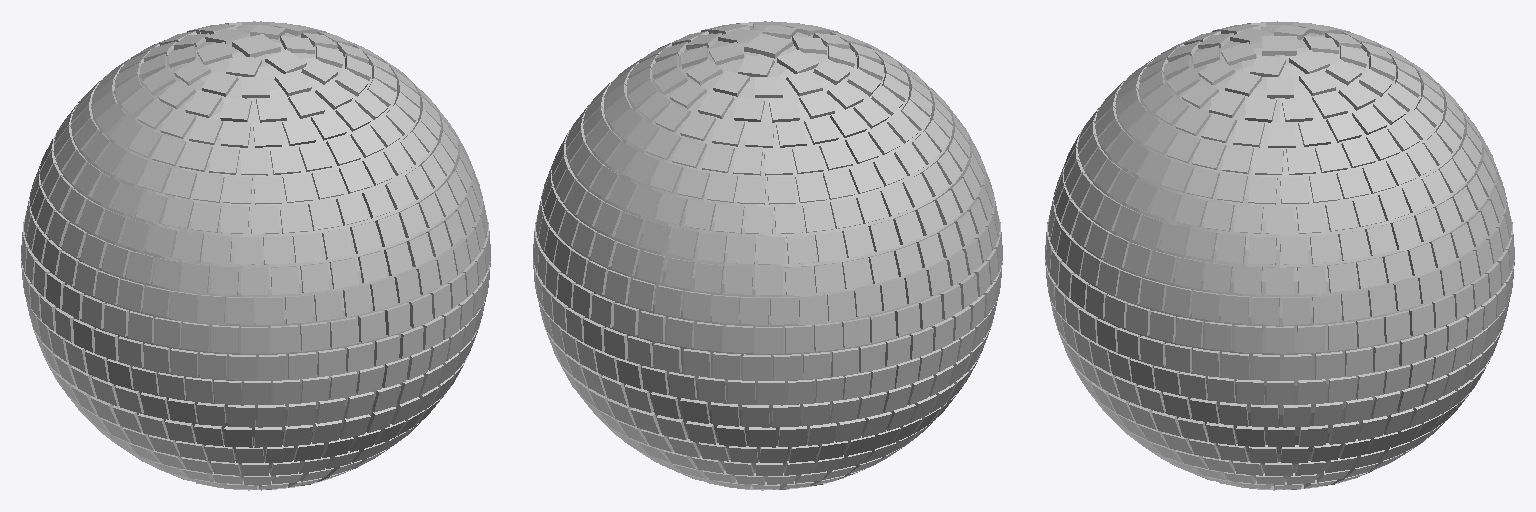
File: discoball.obj
The picture shows the model from 3 angles: view 1: azimuth 30°, elevation 25°; view 2: azimuth 150°, elevation 25°; view 3: azimuth 270°, elevation 25°; orthographic projection.
Visible parts, largest first — view 1: discoball; view 2: discoball; view 3: discoball.
Part boxes in pixels (x1,y1,x2,y2): discoball: (21, 21, 490, 490); discoball: (533, 21, 1002, 490); discoball: (1045, 21, 1514, 490).
Bounding box in the file's own units: 36.47 × 36.31 × 36.47.